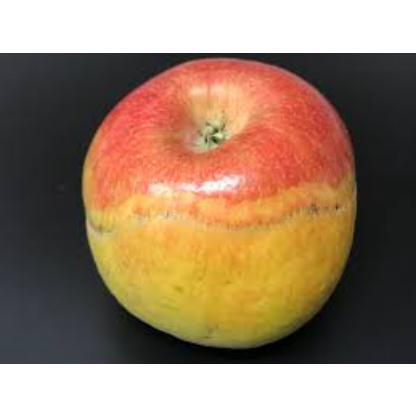apple: (82, 64, 356, 341)
